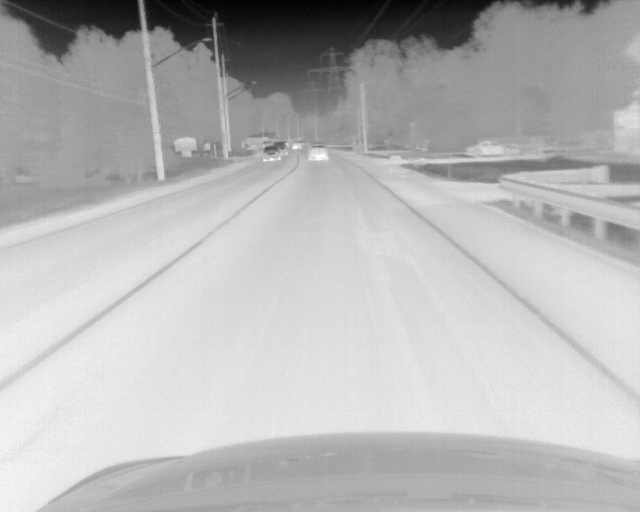car: (464, 140, 512, 157), (308, 145, 328, 162), (263, 146, 281, 162), (274, 142, 288, 155), (291, 141, 301, 150)
